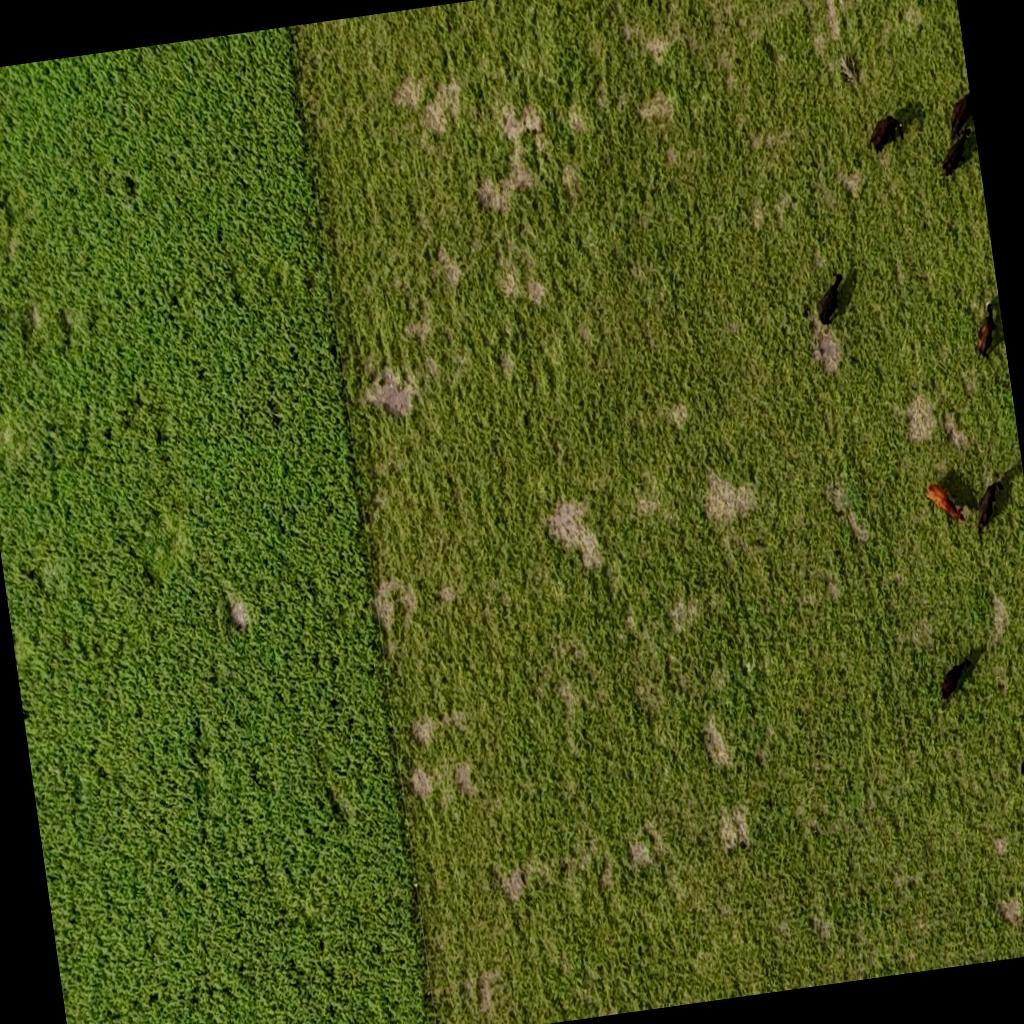cow: (936, 643, 991, 708), (808, 262, 858, 326), (922, 476, 972, 534), (971, 474, 1013, 538), (936, 124, 980, 179), (865, 110, 913, 156), (970, 302, 1004, 366), (944, 93, 976, 143), (1014, 731, 1024, 779)
